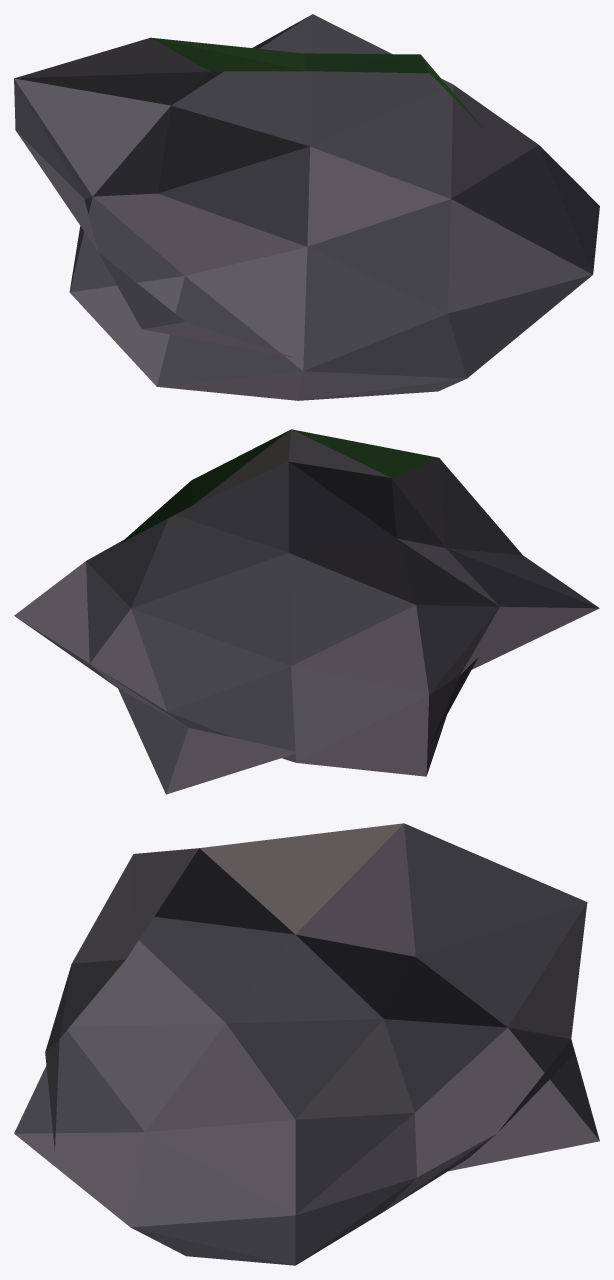
The model's file is rock_1.gltf.
3 views of the same model, one above another, from view 1: azimuth 30°, elevation 25°; view 2: azimuth 150°, elevation 25°; view 3: azimuth 270°, elevation 25° (orthographic). The views are drawn at different scales.
Bounding box in the file's own units: 2.09 × 1.3 × 2.08.
